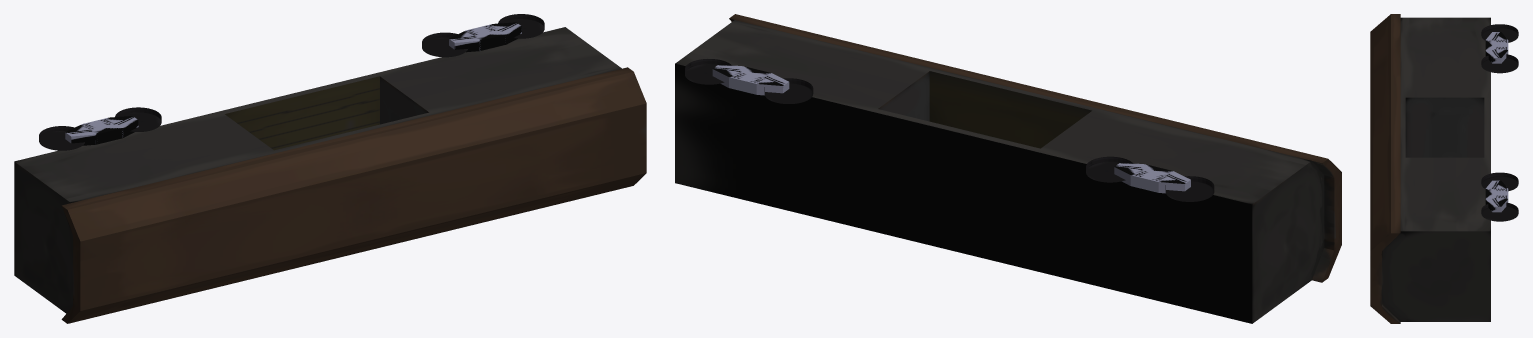
Rendered from train.obj.
The picture shows the model from 3 angles, left to right: view 1: azimuth 30°, elevation 25°; view 2: azimuth 150°, elevation 25°; view 3: azimuth 270°, elevation 25°; orthographic projection. The views are drawn at different scales.
Visible parts, largest first — view 1: Cube, Cube.002_Cube.003, Cube.001, Cylinder.001_Cylinder.003, Cylinder.002_Cylinder.005, Cylinder.003_Cylinder.006, Cylinder; view 2: Cube, Cube.001, Cube.002_Cube.003, Cylinder.003_Cylinder.006, Cylinder.001_Cylinder.003, Cylinder.002_Cylinder.005, Cylinder; view 3: Cube, Cube.001, Cube.002_Cube.003, Cylinder.003_Cylinder.006, Cylinder, Cylinder.001_Cylinder.003, Cylinder.002_Cylinder.005.
Boxes of the visible parts, x1,y1,x2,y2 form: Cube: [14, 27, 646, 323]; Cube.002_Cube.003: [65, 116, 138, 145]; Cube.001: [449, 22, 521, 52]; Cylinder.001_Cylinder.003: [422, 32, 467, 57]; Cylinder.002_Cylinder.005: [39, 126, 84, 150]; Cylinder.003_Cylinder.006: [115, 107, 161, 131]; Cylinder: [498, 14, 544, 38]; Cube: [675, 14, 1341, 323]; Cube.001: [712, 64, 789, 95]; Cube.002_Cube.003: [1114, 162, 1190, 193]; Cylinder.003_Cylinder.006: [1086, 156, 1132, 182]; Cylinder.001_Cylinder.003: [764, 78, 813, 103]; Cylinder.002_Cylinder.005: [1165, 176, 1214, 201]; Cylinder: [685, 59, 731, 84]; Cube: [1370, 14, 1490, 323]; Cube.001: [1485, 180, 1508, 212]; Cube.002_Cube.003: [1485, 32, 1508, 63]; Cylinder.003_Cylinder.006: [1481, 54, 1518, 73]; Cylinder: [1481, 202, 1518, 221]; Cylinder.001_Cylinder.003: [1481, 172, 1518, 191]; Cylinder.002_Cylinder.005: [1481, 24, 1518, 42].
Size of the model in its own units: 330 by 69.29 by 94.18.
Materials: 3 (3 with a texture image).
